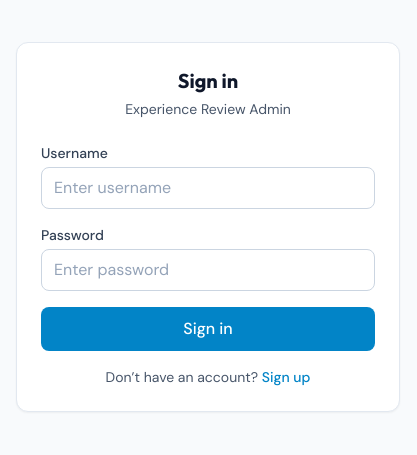
Test case: SignIn › shows validation error when submitting empty
Click the button "Sign in" at {"x": 208, "y": 329}, box [41,307,375,351]
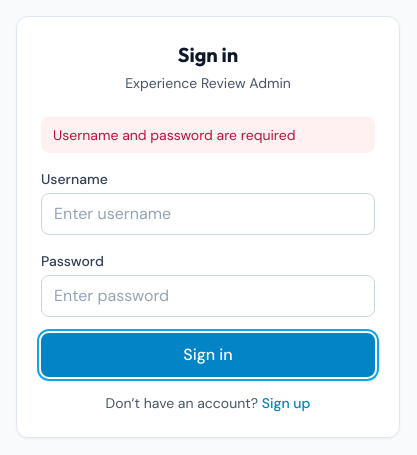
Now the text "Username and password are required" is shown, box [41,117,375,153]
